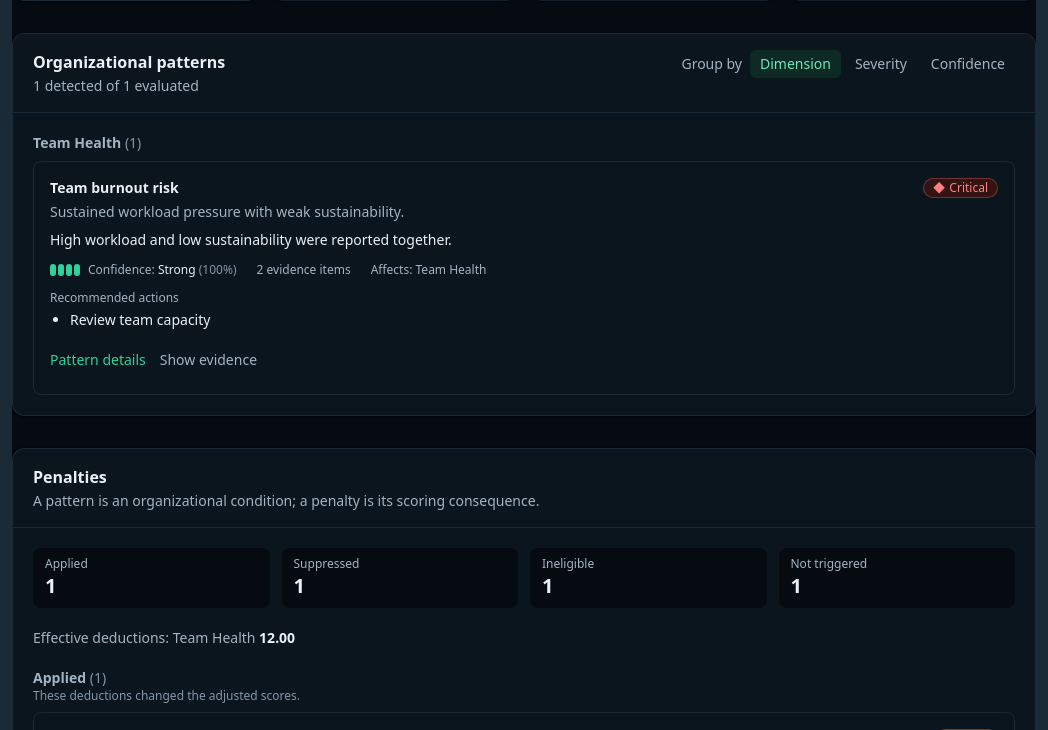
Test case: DashboardPage › hides values and question detail from a viewer
(page scrolled)
Step 1. Click the button "Show evidence" → [208, 360], box [146, 342, 271, 378]
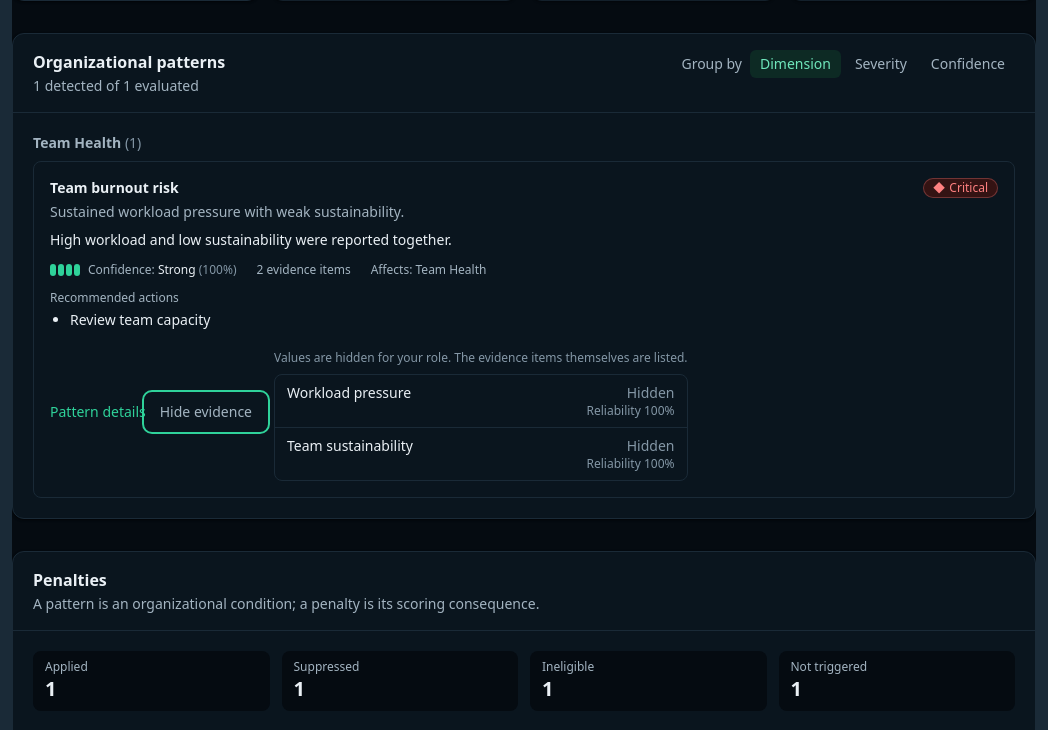
Expected: the text "Values are hidden for your role" is shown, [274, 349, 688, 366]
